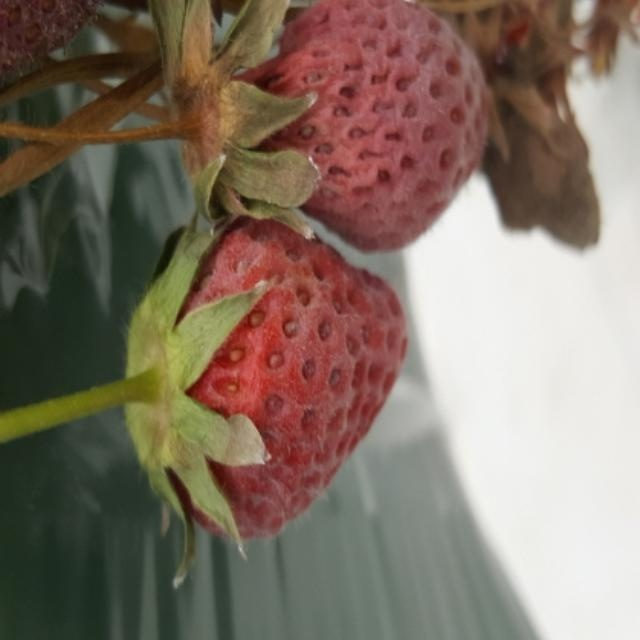Powdery Mildew Fruit: (142, 213, 409, 540), (205, 2, 490, 255)
